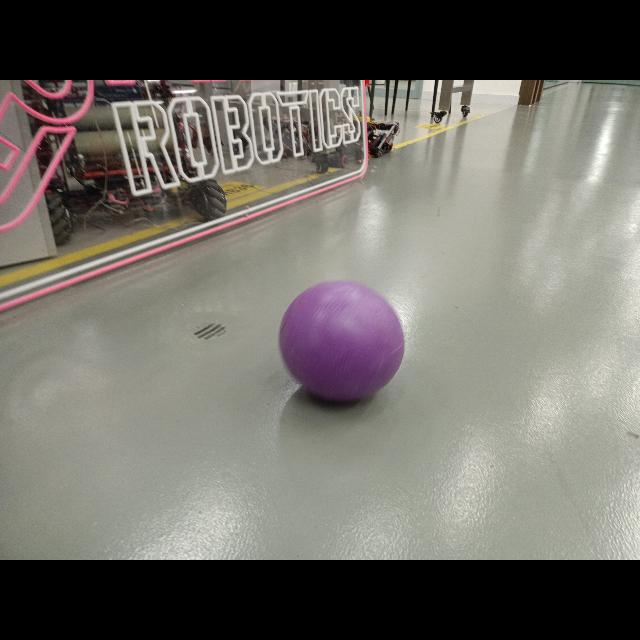P: (274, 279, 410, 403)
